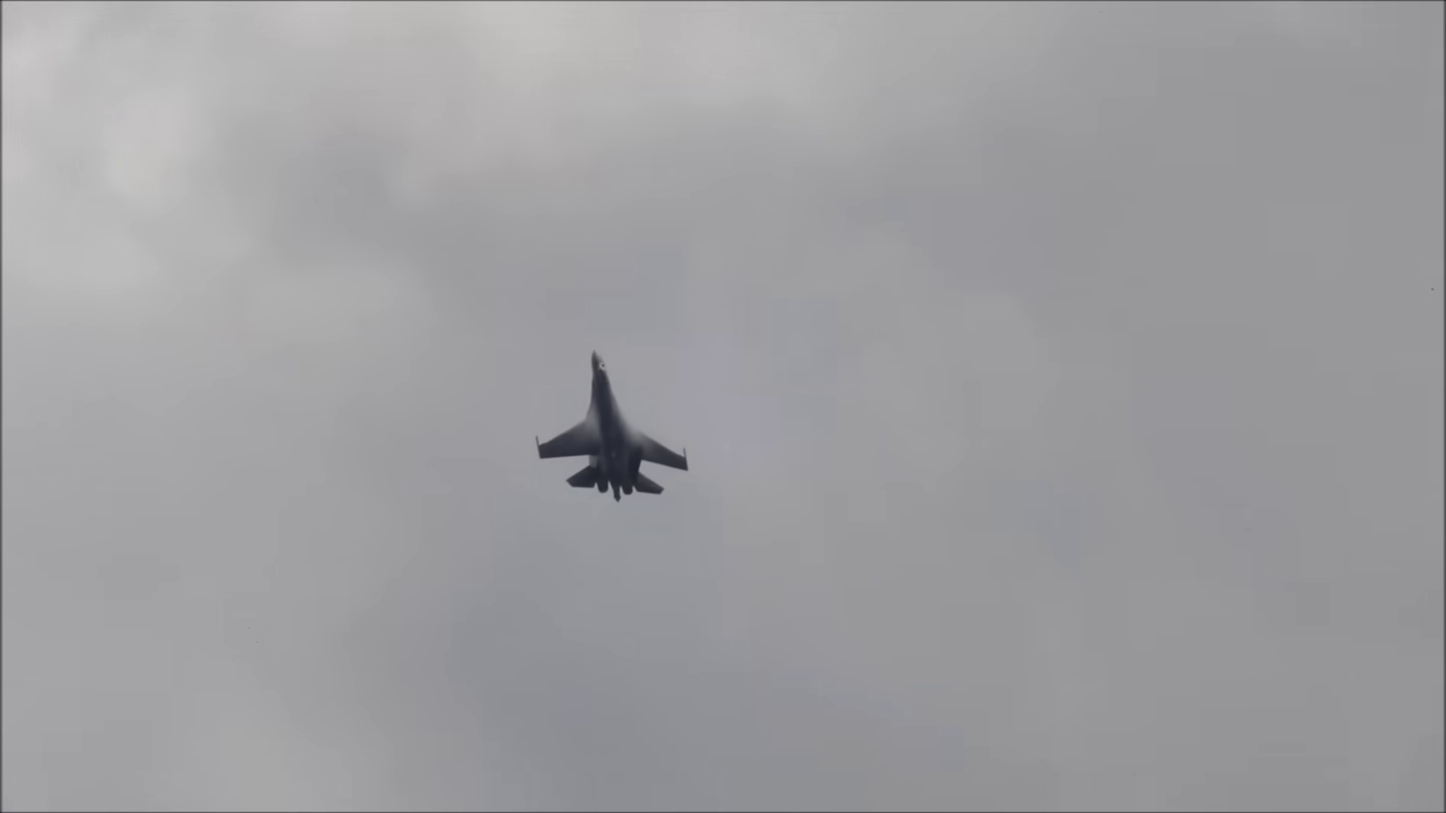Su35: (520, 343, 694, 512)
